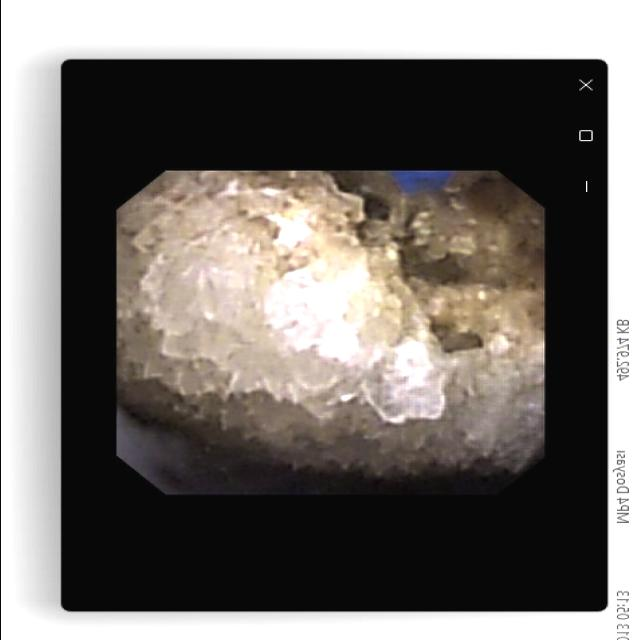stone: (124, 177, 538, 475)
